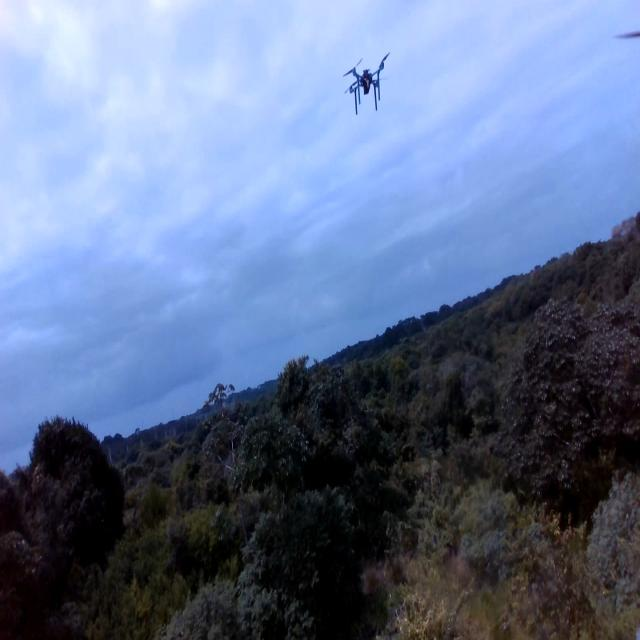-uav-: (333, 46, 396, 123)
